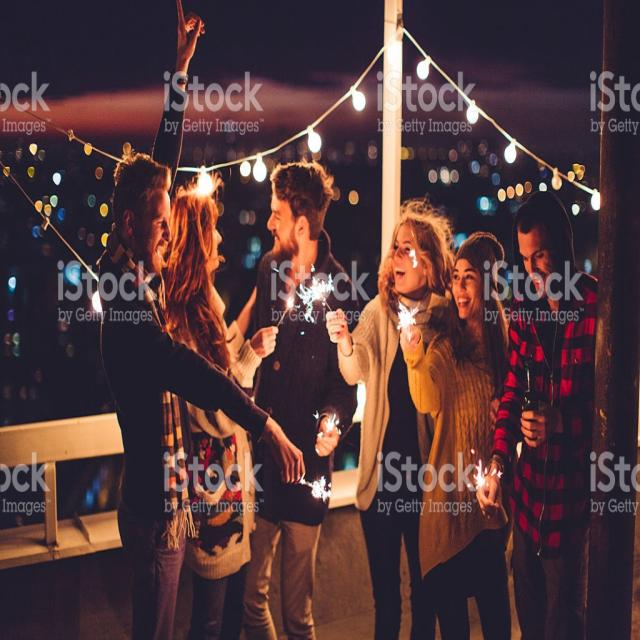body: (96, 0, 306, 639), (324, 193, 460, 640), (241, 156, 361, 640), (474, 188, 599, 640), (394, 233, 518, 639), (168, 183, 278, 639)
